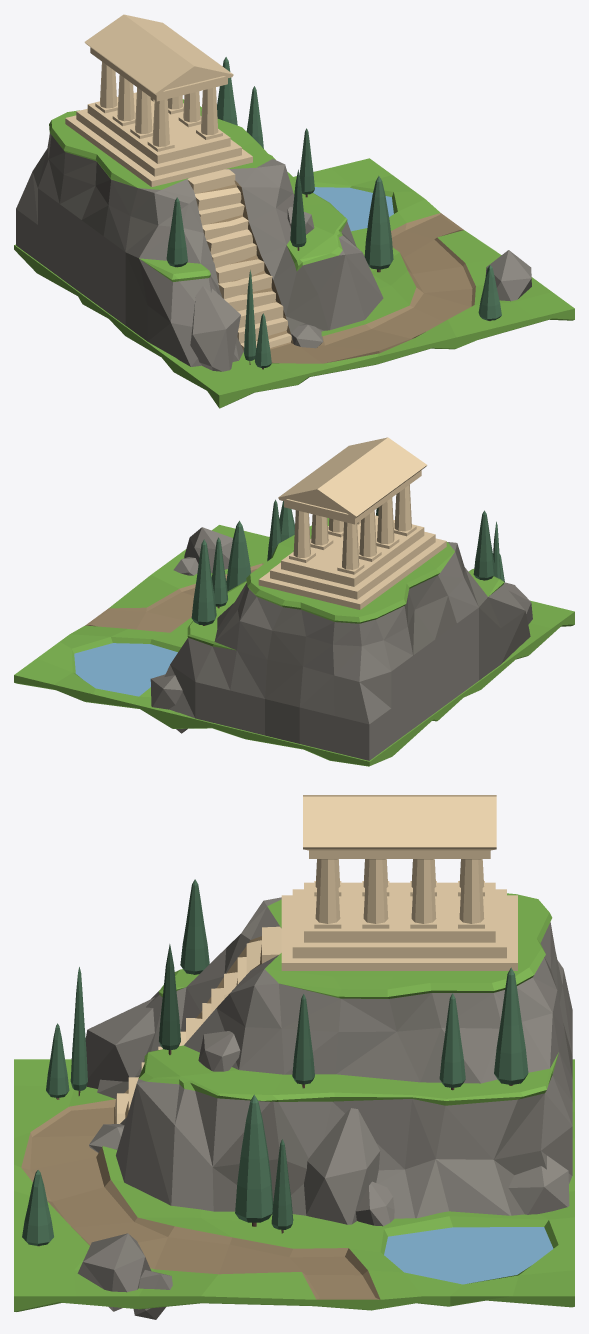
File: New_temple_scene.fbx
The picture shows the model from 3 angles, top to bottom: view 1: azimuth 30°, elevation 25°; view 2: azimuth 150°, elevation 25°; view 3: azimuth 270°, elevation 25°; orthographic projection. The views are drawn at different scales.
Visible parts, largest first — view 1: Temple1; view 2: Temple1; view 3: Temple1.
Part boxes in pixels (<box>): Temple1: <box>14,14,574,408</box>; Temple1: <box>14,437,574,766</box>; Temple1: <box>14,795,574,1319</box>.
Size of the model in its own units: 1000 by 716 by 1000.
